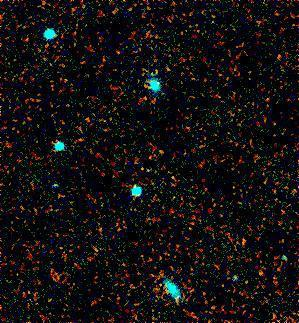star: (118, 152, 148, 182)
